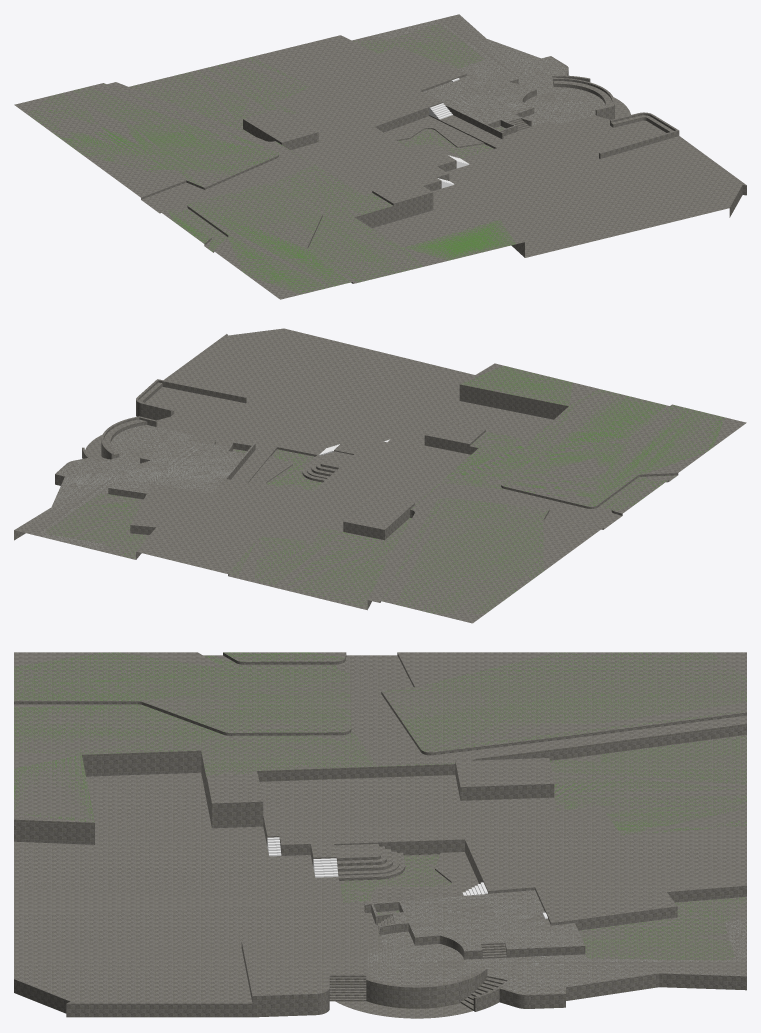
Rendered from center_site.glb.
3 renders of one model, top to bottom at view 1: azimuth 30°, elevation 25°; view 2: azimuth 150°, elevation 25°; view 3: azimuth 270°, elevation 25°, orthographic. The views are drawn at different scales.
Parts seen in each view (by area): view 1: 文化活动中心场地; view 2: 文化活动中心场地; view 3: 文化活动中心场地.
Boxes of the visible parts, x1,y1,x2,y2 form: 文化活动中心场地: [14, 14, 746, 299]; 文化活动中心场地: [14, 328, 746, 623]; 文化活动中心场地: [14, 652, 746, 1018].
Bounding box in the file's own units: 6.85 × 0.378 × 6.48.
Materials: 4 (3 with a texture image).
